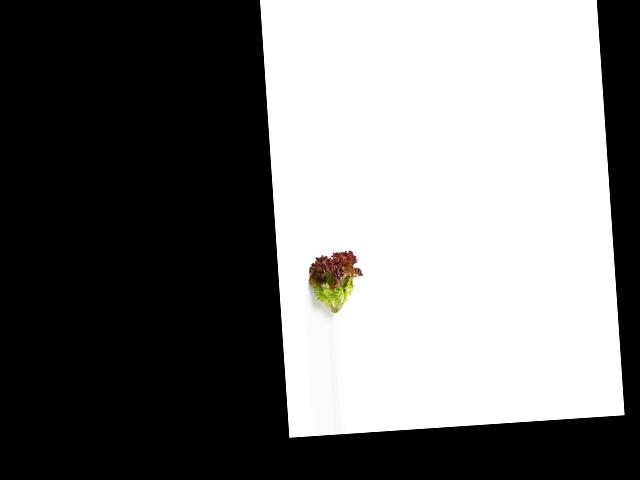lettuce: (305, 246, 363, 322)
